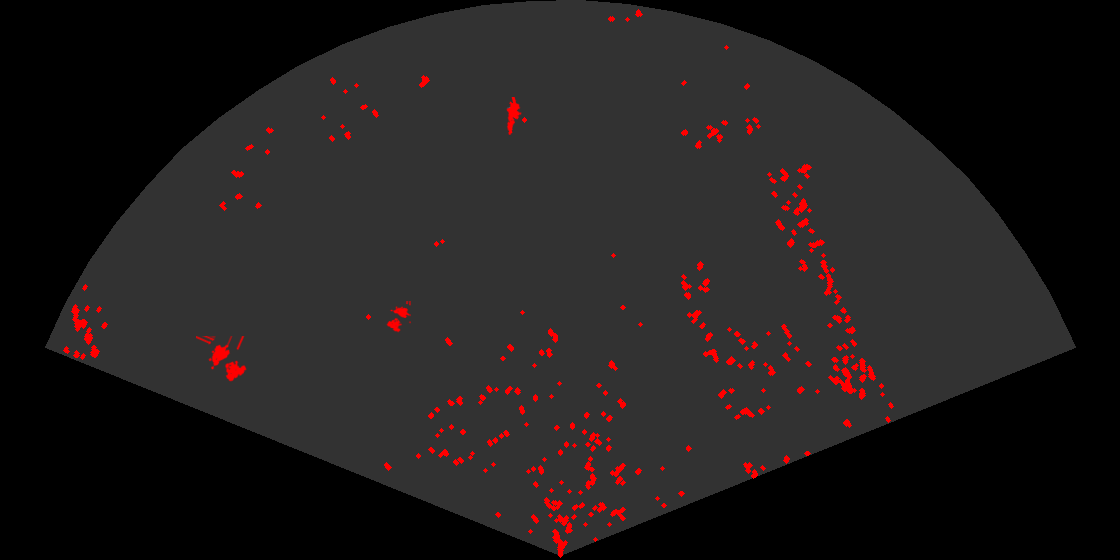cage: (196, 336, 248, 383), (385, 301, 411, 334)
frogman: (505, 97, 523, 135)
